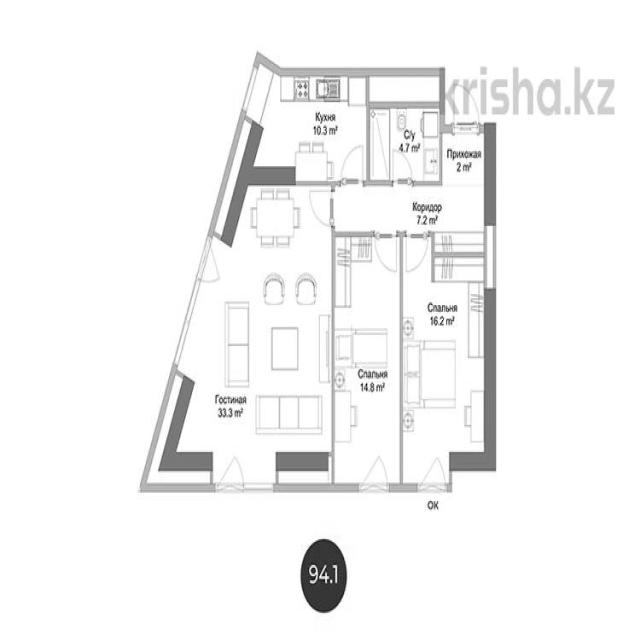bathroom: (367, 104, 442, 176)
hallway: (334, 183, 492, 233), (442, 132, 490, 176)
kitchen: (258, 72, 370, 182)
living_room: (212, 183, 334, 463), (405, 240, 493, 464), (335, 235, 403, 488)
